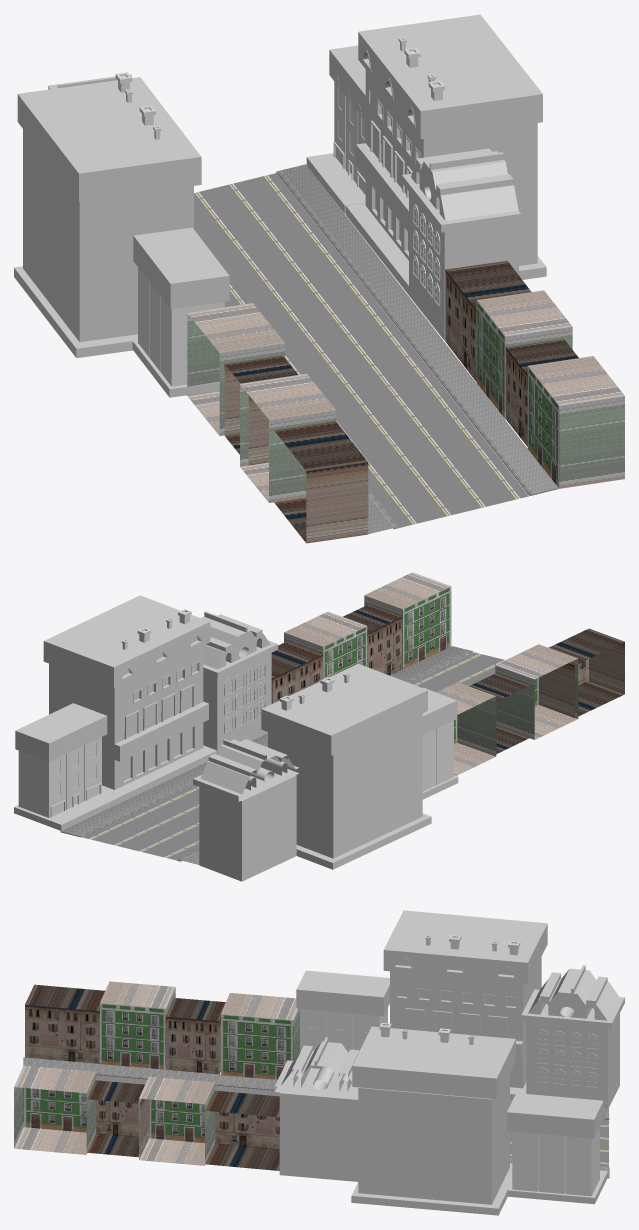
File: Calle A.FBX
3 renders of one model, top to bottom at view 1: azimuth 30°, elevation 25°; view 2: azimuth 150°, elevation 25°; view 3: azimuth 270°, elevation 25°, orthographic. The views are drawn at different scales.
Visible parts, largest first — view 1: Plane005, Rectangle025, Rectangle024, Rectangle026, Box117, Rectangle027, ChamferBox049, Box118, Shape022, Box104, Box102, Circle008 (+17 smaller); view 2: Rectangle025, Rectangle027, Rectangle024, Rectangle026, Circle009, Plane005, Box118, Box117, Box104, Circle008, Shape029, Box102 (+19 smaller); view 3: Rectangle027, Rectangle026, Rectangle024, Circle008, Box117, Circle009, Rectangle025, Box102, Box108, Box104, Box118, Box110 (+16 smaller).
Part boxes in pixels (bbox=[...]): Plane005: bbox=[194, 173, 528, 527]; Rectangle025: bbox=[23, 129, 193, 341]; Rectangle024: bbox=[17, 77, 201, 201]; Rectangle026: bbox=[358, 14, 542, 139]; Box117: bbox=[527, 356, 624, 488]; Rectangle027: bbox=[356, 69, 537, 265]; ChamferBox049: bbox=[281, 164, 558, 495]; Box118: bbox=[274, 421, 368, 543]; Shape022: bbox=[402, 148, 520, 232]; Box104: bbox=[240, 374, 336, 502]; Box102: bbox=[187, 303, 285, 435]; Circle008: bbox=[409, 192, 518, 340]; Rectangle025: bbox=[268, 713, 422, 858]; Rectangle027: bbox=[49, 646, 208, 789]; Rectangle024: bbox=[261, 663, 427, 755]; Rectangle026: bbox=[43, 595, 210, 687]; Circle009: bbox=[199, 775, 296, 881]; Plane005: bbox=[83, 652, 504, 860]; Box118: bbox=[539, 628, 624, 717]; Box117: bbox=[364, 572, 451, 669]; Box104: bbox=[495, 644, 578, 739]; Circle008: bbox=[203, 653, 271, 753]; Shape029: bbox=[193, 739, 299, 801]; Box102: bbox=[436, 682, 496, 775]; Rectangle027: bbox=[358, 1073, 511, 1204]; Rectangle026: bbox=[352, 1026, 515, 1099]; Rectangle024: bbox=[383, 910, 547, 983]; Circle008: bbox=[279, 1092, 358, 1181]; Box117: bbox=[14, 1065, 95, 1154]; Circle009: bbox=[526, 1013, 619, 1108]; Rectangle025: bbox=[390, 957, 541, 1088]; Box102: bbox=[221, 993, 299, 1079]; Box108: bbox=[139, 1076, 214, 1165]; Box104: bbox=[100, 981, 175, 1069]; Box118: bbox=[25, 984, 104, 1063]; Box110: bbox=[206, 1090, 279, 1170].
Bounding box in the file's own units: 4595 × 1766 × 6692.
Materials: 5 (5 with a texture image).
